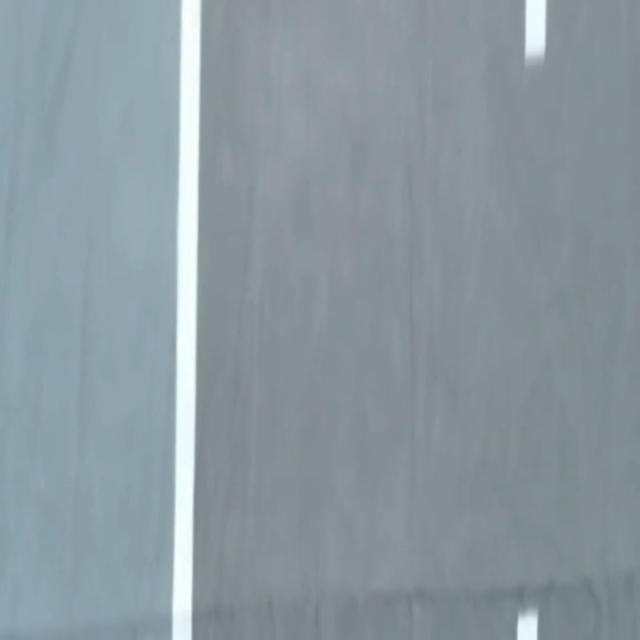center: (524, 0, 546, 65), (516, 607, 538, 639)
left: (172, 0, 200, 639)
